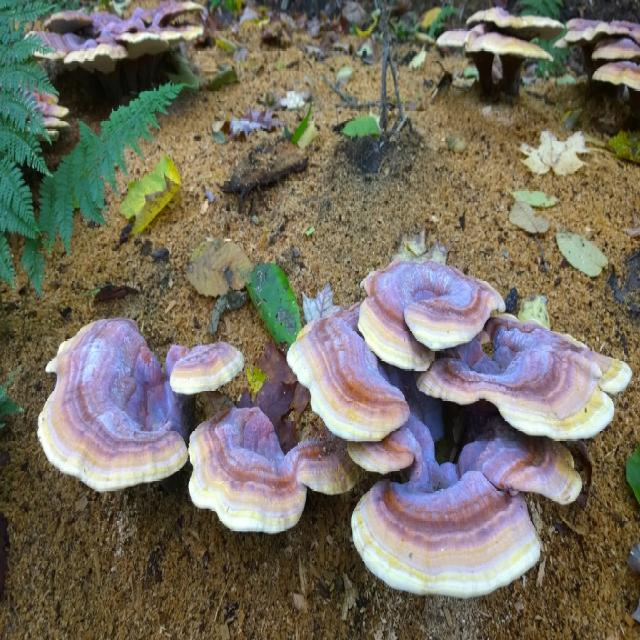Mushroom: (36, 252, 631, 601), (37, 312, 193, 495), (436, 5, 640, 114), (25, 0, 203, 75), (20, 80, 68, 146)
